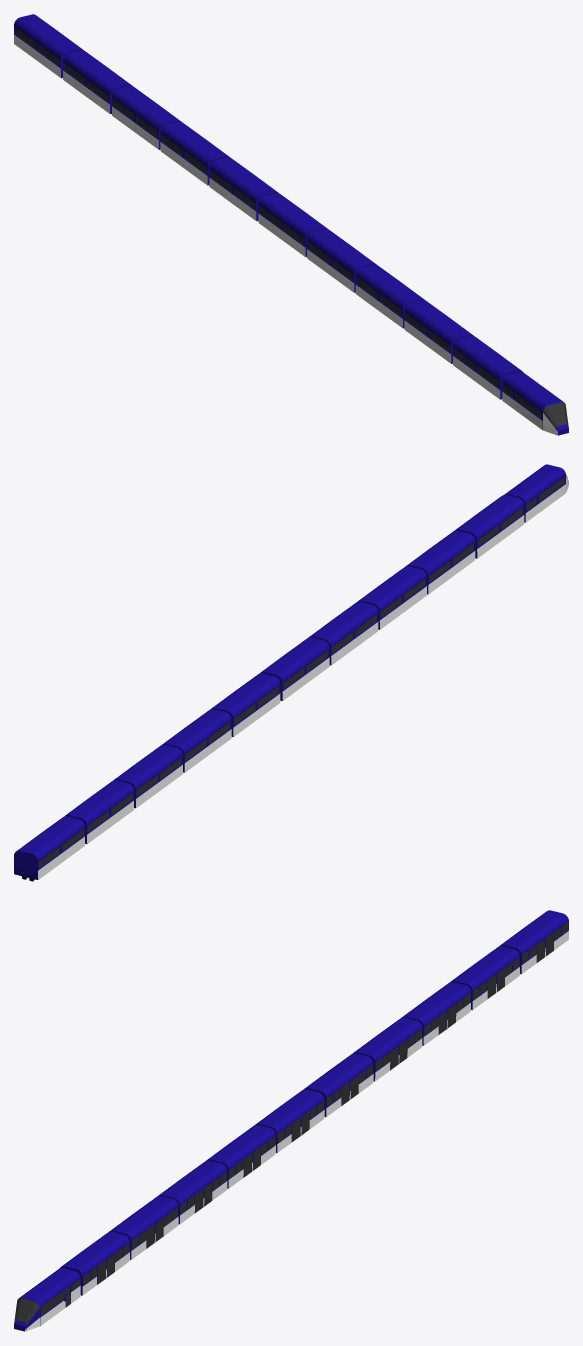
File: train (2).fbx
The picture shows the model from 3 angles, top to bottom: view 1: azimuth 30°, elevation 25°; view 2: azimuth 150°, elevation 25°; view 3: azimuth 330°, elevation 25°; orthographic projection.
Visible parts, largest first — view 1: Cube; view 2: Cube; view 3: Cube.
Boxes of the visible parts, <box> form: Cube: <box>14,14,568,435</box>; Cube: <box>14,464,568,881</box>; Cube: <box>14,910,568,1331</box>.
Size of the model in its own units: 168 by 196 by 6369.
Materials: 1 (1 with a texture image).
